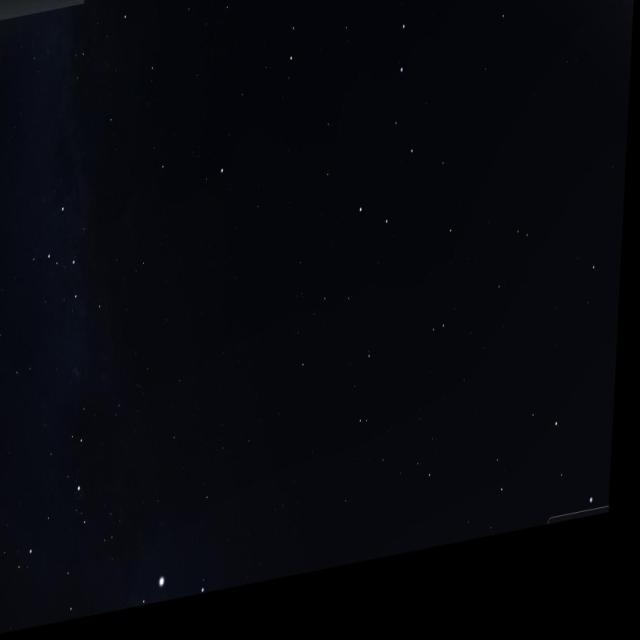cassiopeia: (41, 190, 116, 354)
ursa_major: (359, 0, 443, 257)
